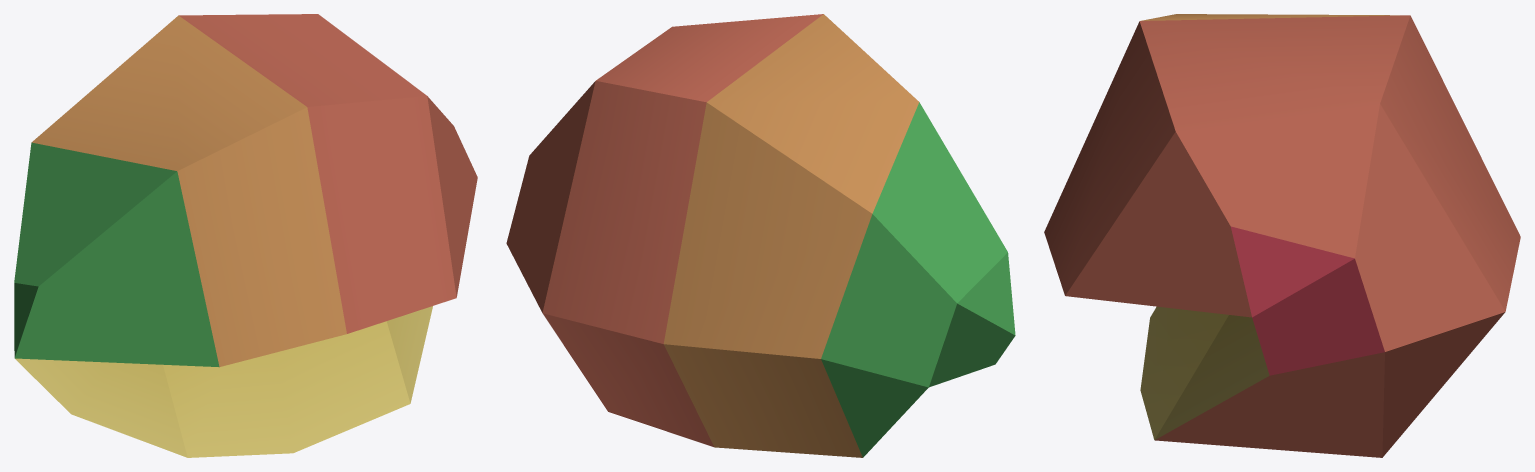
The model's file is Mango.fbx.
3 views of the same model, side by side, from view 1: azimuth 30°, elevation 25°; view 2: azimuth 150°, elevation 25°; view 3: azimuth 270°, elevation 25° (orthographic). The views are drawn at different scales.
Parts seen in each view (by area): view 1: mango; view 2: mango; view 3: mango.
Part boxes in pixels (bbox=[...]): mango: bbox=[14, 14, 477, 457]; mango: bbox=[506, 14, 1015, 457]; mango: bbox=[1044, 14, 1520, 457].
Size of the model in its own units: 9.25 by 6.73 by 7.49.
